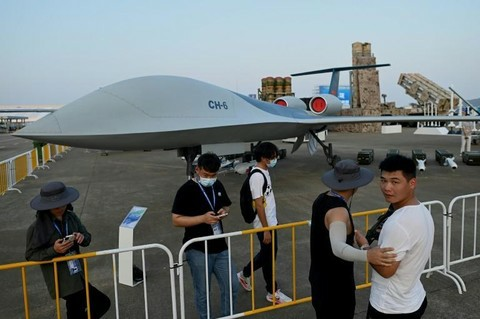maybay_khongnguoilai: (24, 74, 471, 165)
